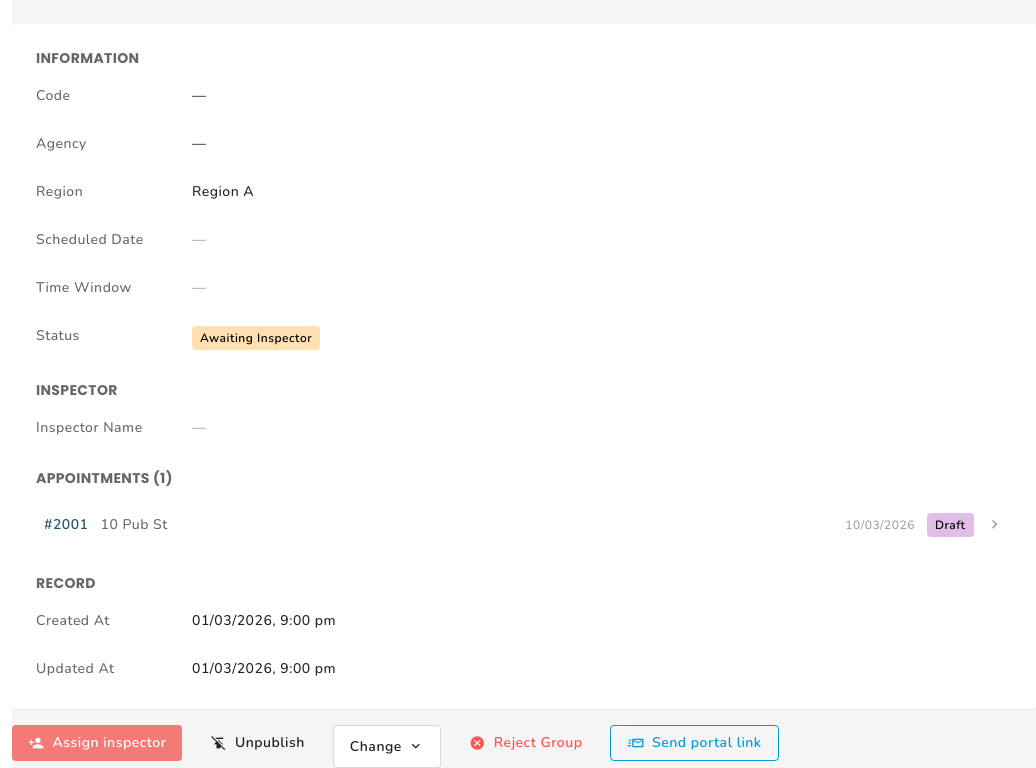
ServiceGroupDetailPage › drops the Change-menu inspector item for PUBLISHED (the dedicated button covers it)
(page scrolled)
Click the button with test id "service-group-change-trigger": (387, 746) [333,725,441,767]
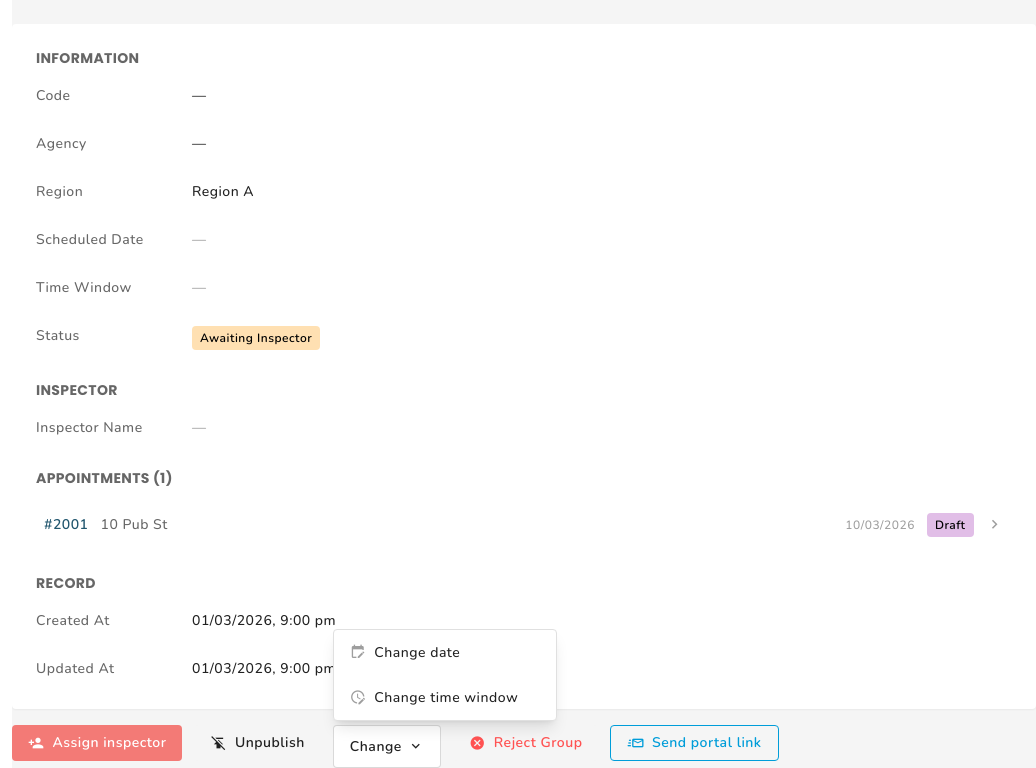
Expected: the menu item with test id "group-action-change-date" is shown, [334,630,556,675]
Expected: the menu item with test id "group-action-change-time-window" is shown, [334,675,556,720]
